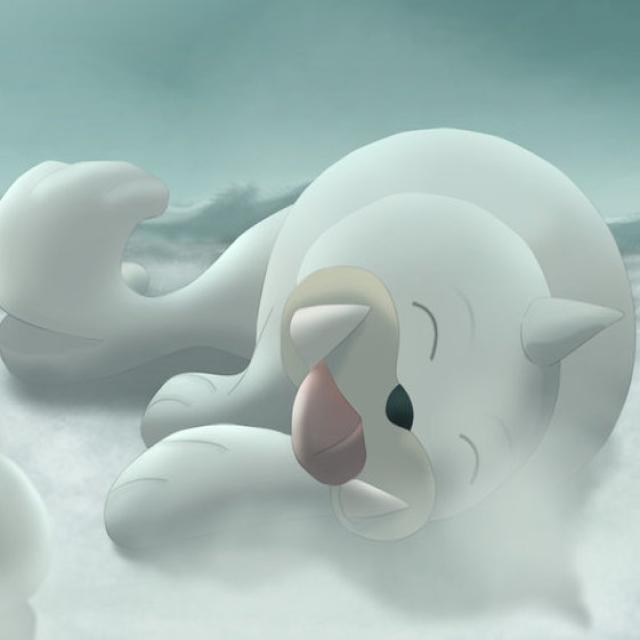Seel: (18, 114, 632, 597)
